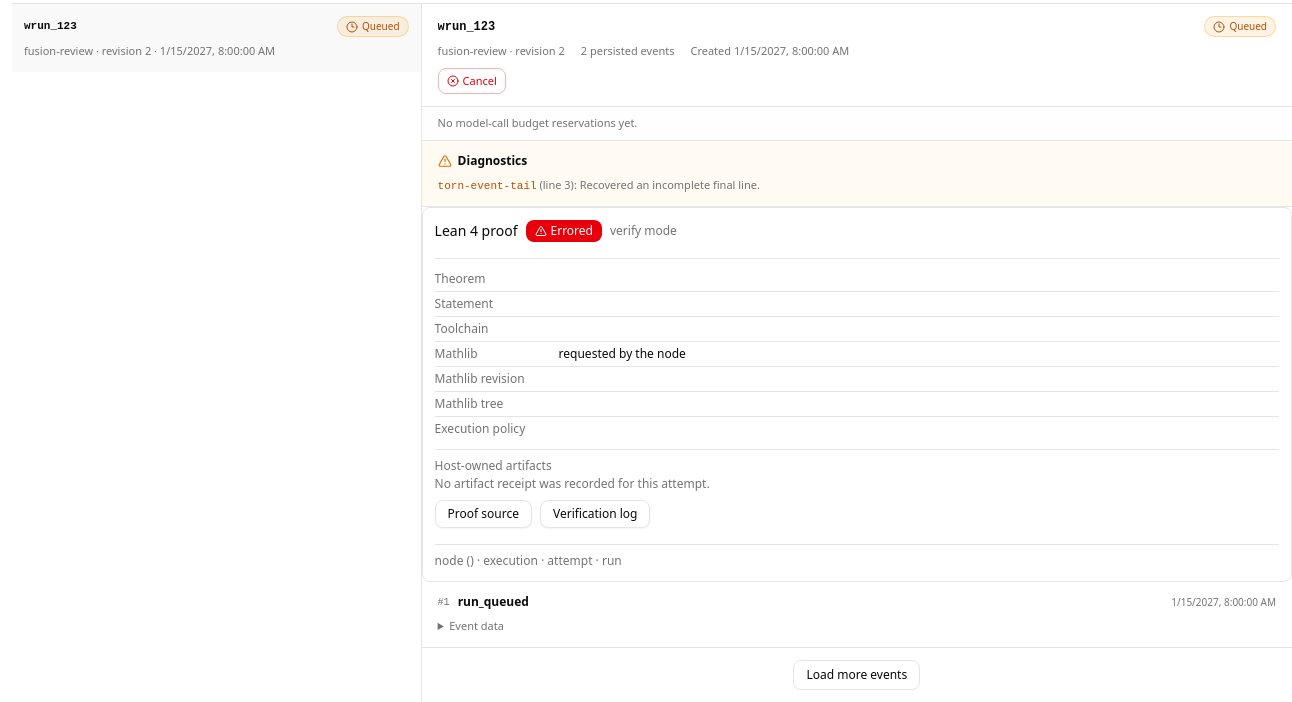
Test case: DagWorkflowConsole › keeps queued runs honest and pages authoritative ordered events
(page scrolled)
Check: the 1st text "Queued" is shown, box [337,16,409,37]
Check: the text "torn-event-tail" is shown, box [438,180,537,192]
Click the button "Load more events": click(857, 674) [793,660,920,690]
(page scrolled)
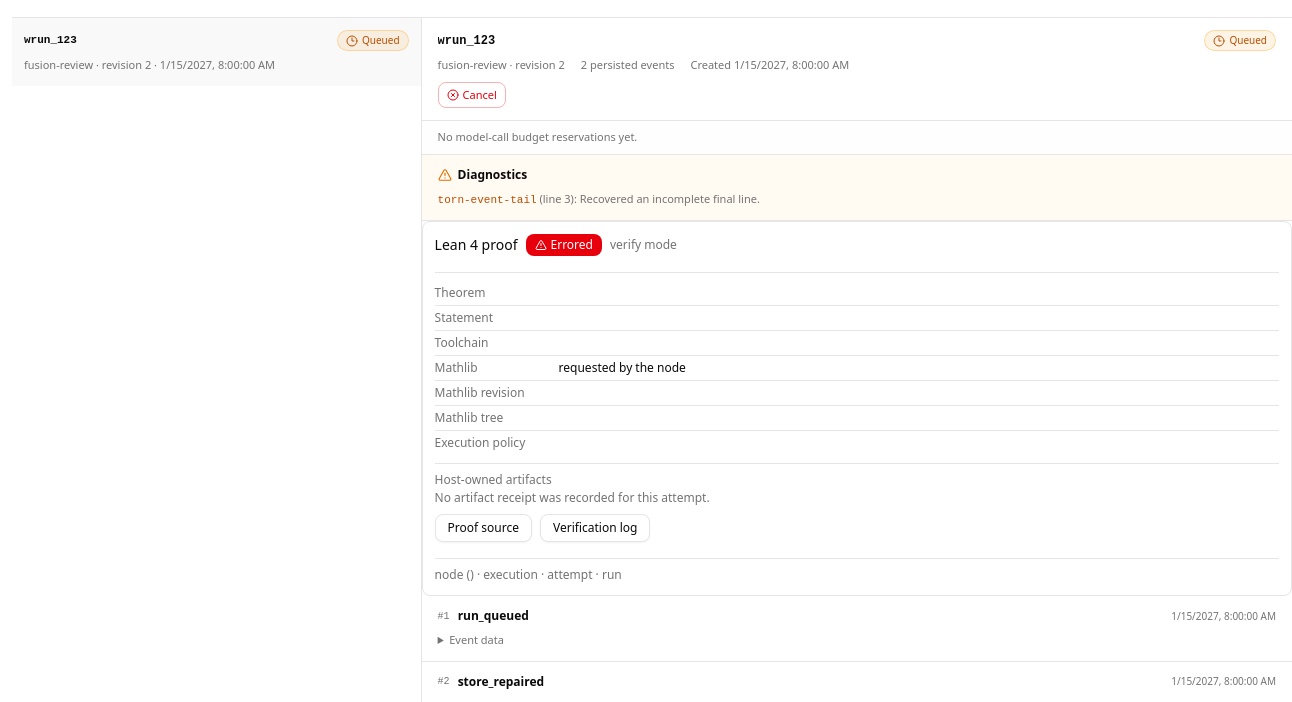
Check: the list item "#1 run_queued 1/15/2027, 8:00:00 AM Event data" is shown, box [422,596,1291,662]
Check: the text "store_repaired" is shown, box [458,674,544,690]
Check: the list item "#2 store_repaired 1/15/2027, 8:00:00 AM" is shown, box [438,672,1276,690]
